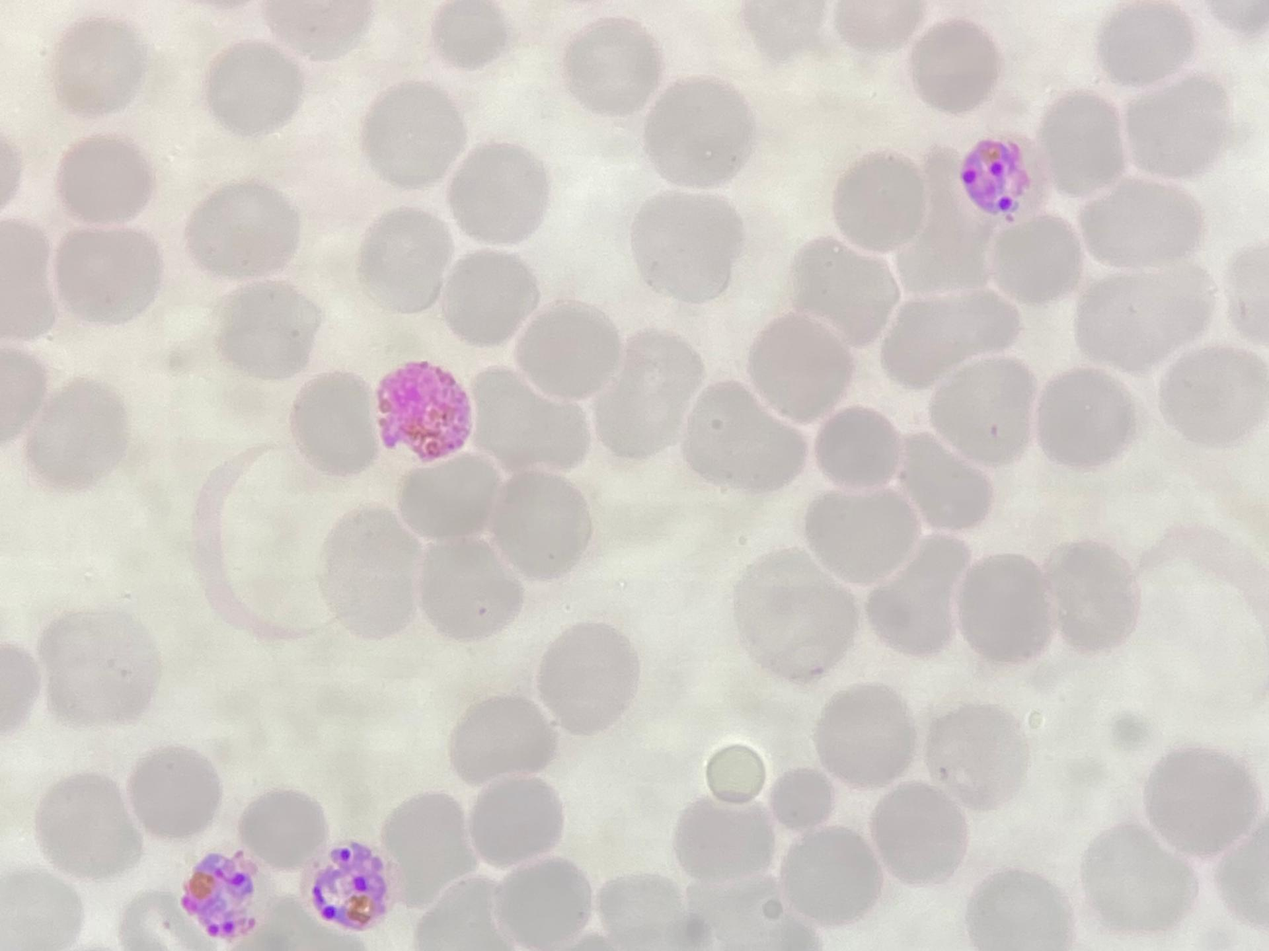Infected: (377, 361, 473, 459), (307, 833, 389, 927), (181, 848, 260, 938), (962, 138, 1030, 217)
Uninfected: (888, 154, 1011, 297), (728, 549, 856, 683), (38, 609, 160, 730), (586, 334, 702, 458), (1075, 265, 1209, 371), (878, 287, 1017, 389), (319, 508, 426, 640), (681, 378, 804, 490), (866, 535, 975, 661), (467, 362, 590, 472), (626, 190, 742, 302), (1141, 742, 1255, 855), (926, 353, 1038, 464), (644, 80, 755, 191), (484, 468, 594, 580), (24, 374, 128, 491), (184, 178, 303, 280), (745, 313, 855, 422), (1080, 176, 1207, 270), (925, 699, 1030, 812), (1122, 74, 1233, 180), (534, 622, 640, 733), (806, 484, 917, 589), (1078, 823, 1186, 930), (33, 770, 139, 879), (811, 681, 916, 791), (358, 80, 469, 184), (787, 234, 899, 337), (416, 535, 523, 642), (954, 551, 1054, 664), (1032, 364, 1137, 471), (378, 791, 476, 905), (1043, 539, 1139, 654), (1160, 343, 1267, 446), (777, 824, 884, 926), (213, 278, 323, 377), (445, 139, 551, 241), (54, 223, 161, 323), (356, 208, 457, 313), (396, 447, 506, 541), (514, 303, 621, 398), (438, 246, 541, 344), (869, 780, 967, 882), (204, 41, 306, 137), (447, 693, 552, 786), (465, 773, 565, 870), (671, 794, 775, 886), (488, 856, 592, 948), (562, 19, 662, 114), (288, 369, 378, 474), (830, 152, 927, 249), (126, 744, 221, 843), (677, 871, 796, 950), (898, 432, 994, 529), (1038, 88, 1130, 189), (52, 17, 147, 114), (55, 133, 155, 223), (989, 212, 1083, 303), (964, 868, 1070, 948), (909, 19, 1002, 110), (1095, 2, 1195, 86), (813, 404, 904, 490), (235, 786, 327, 870), (594, 872, 696, 946), (411, 877, 505, 949), (430, 1, 510, 67), (767, 765, 837, 831)
